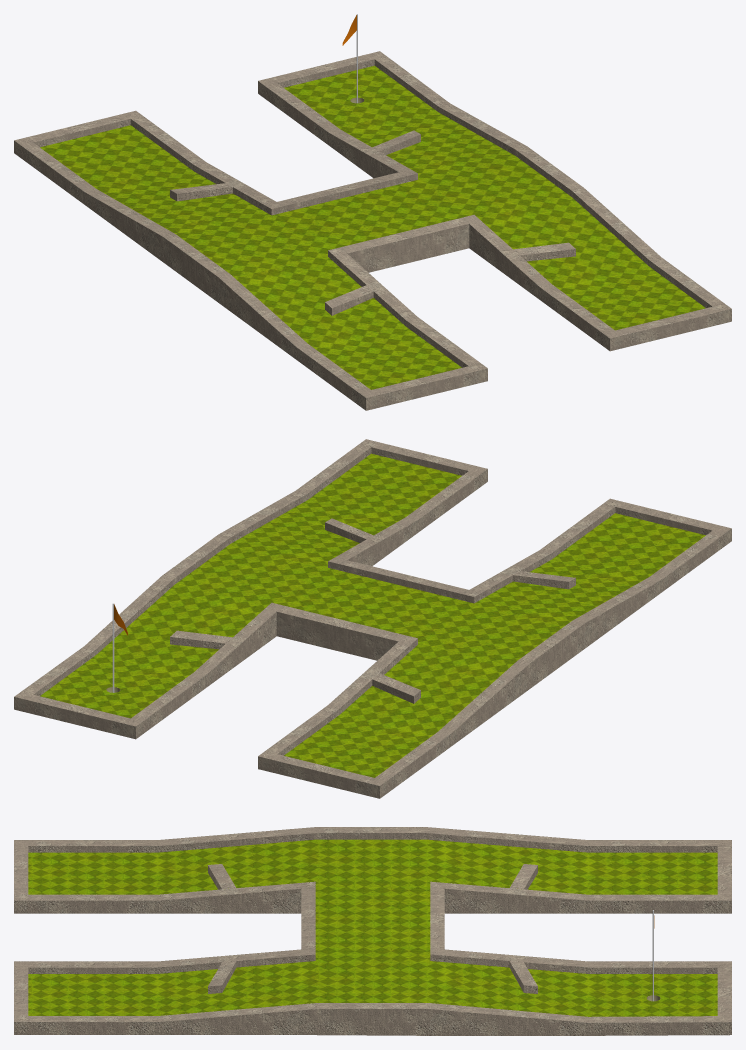
File: course4_hole15.fbx
3 views of the same model, one above another, from view 1: azimuth 30°, elevation 25°; view 2: azimuth 150°, elevation 25°; view 3: azimuth 270°, elevation 25° (orthographic).
Parts seen in each view (by area): view 1: course4_hole15_ground, course4_hole15_walls; view 2: course4_hole15_ground, course4_hole15_walls; view 3: course4_hole15_ground, course4_hole15_walls.
Part boxes in pixels (x1,y1,x2,y2): course4_hole15_ground: (40,65,705,389); course4_hole15_walls: (14,51,731,410); course4_hole15_ground: (40,453,705,777); course4_hole15_walls: (14,439,731,798); course4_hole15_ground: (28,839,717,1016); course4_hole15_walls: (14,827,731,1035).
Bounding box in the file's own units: 300 × 75.04 × 500.
